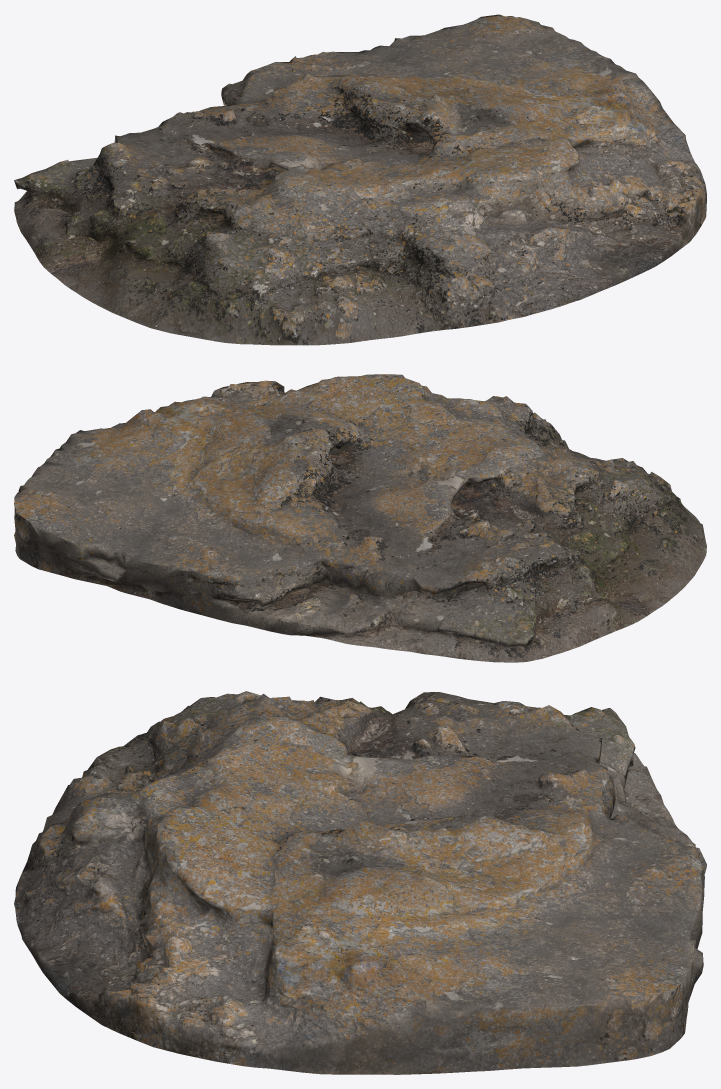
Rendered from SM_wfbqahcbw_tier_2.gltf.
3 renders of one model, top to bottom at view 1: azimuth 30°, elevation 25°; view 2: azimuth 150°, elevation 25°; view 3: azimuth 270°, elevation 25°, orthographic. The views are drawn at different scales.
Visible parts, largest first — view 1: SM_wfbqahcbw; view 2: SM_wfbqahcbw; view 3: SM_wfbqahcbw.
Part boxes in pixels (x1,y1,x2,y2): SM_wfbqahcbw: (14, 14, 706, 345); SM_wfbqahcbw: (14, 374, 706, 662); SM_wfbqahcbw: (14, 691, 706, 1074).
Bounding box in the file's own units: 4.42 × 0.641 × 3.59.
Materials: 1 (1 with a texture image).
